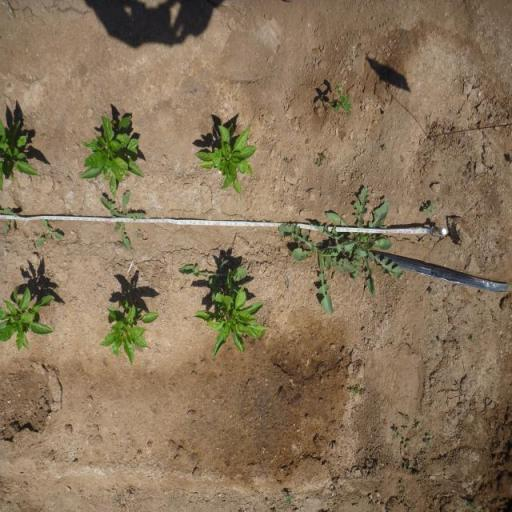plant: (193, 286, 268, 360), (192, 122, 258, 196), (82, 114, 144, 190), (97, 296, 159, 368), (0, 282, 57, 351), (0, 114, 42, 192), (326, 82, 354, 116)
weed: (334, 187, 405, 297), (277, 224, 361, 316), (100, 190, 146, 252), (178, 258, 248, 290), (37, 218, 65, 248), (0, 206, 18, 238), (347, 382, 367, 398), (422, 202, 436, 216), (313, 153, 327, 167), (282, 492, 295, 506), (398, 480, 406, 502), (464, 500, 477, 512), (425, 431, 433, 447), (402, 438, 411, 452), (403, 460, 412, 473), (401, 412, 411, 423), (368, 498, 376, 508), (454, 383, 462, 390), (430, 287, 436, 296), (470, 336, 476, 344), (136, 230, 142, 238), (393, 430, 401, 436), (402, 425, 410, 431), (414, 422, 420, 430), (284, 157, 290, 164), (382, 144, 386, 151)
